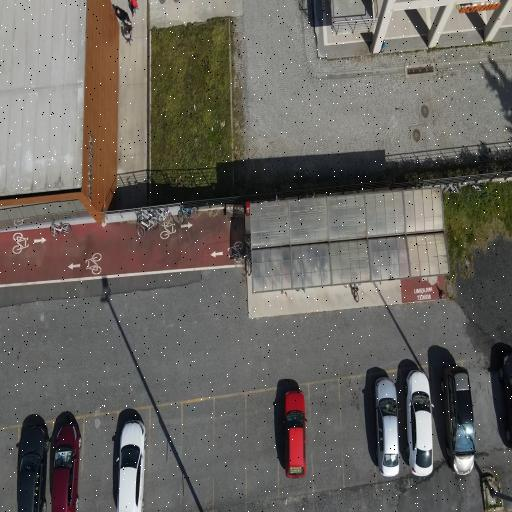car: (440, 367, 474, 474), (404, 370, 432, 476), (50, 424, 81, 511), (17, 426, 48, 511), (116, 421, 145, 511), (374, 378, 398, 476), (284, 391, 305, 477), (498, 353, 511, 446)
person: (113, 4, 130, 22), (121, 22, 133, 45), (128, 0, 138, 18)
